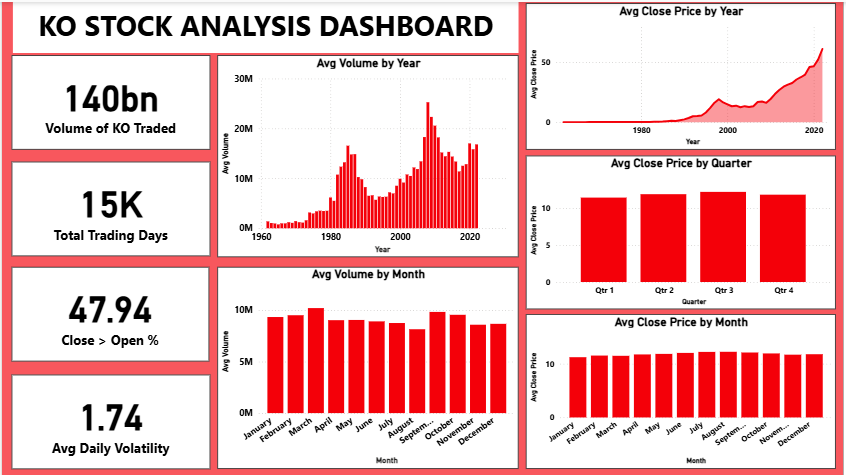

Layout of this report page (visuals, bound fields, positions):
{"tool":"powerbi","page":{"name":"Page 1","canvas":[1280,720],"ordinal":0},"visuals":[{"type":"card","fields":{"Values":["Coca-Cola_stock_history.Close > Open %"]},"box":[14.7,403.7,300.4,143.8],"z":0},{"type":"card","fields":{"Values":["Sum(Coca-Cola_stock_history.Volume)"]},"box":[14.7,81.1,302.3,143.8],"z":2000},{"type":"card","fields":{"Values":["Coca-Cola_stock_history.Total Trading Days"]},"box":[14.7,243.3,302.3,143.8],"z":3000},{"type":"clusteredColumnChart","fields":{"Category":["Coca-Cola_stock_history.Date.Variation.Date Hierarchy.Year"],"Y":["Coca-Cola_stock_history.Avg Trading Days"]},"box":[328.1,81.1,458.9,307.8],"z":4000},{"type":"areaChart","fields":{"Category":["Coca-Cola_stock_history.Date.Variation.Date Hierarchy.Year"],"Y":["Coca-Cola_stock_history.Avg Close Price"]},"box":[798.1,1.8,471.8,223],"z":5000},{"type":"clusteredColumnChart","fields":{"Category":["Coca-Cola_stock_history.Date.Variation.Date Hierarchy.Month"],"Y":["Coca-Cola_stock_history.Avg Vol Traded"]},"box":[328.1,403.7,459,307.8],"z":6000},{"type":"clusteredColumnChart","fields":{"Category":["Coca-Cola_stock_history.Date.Variation.Date Hierarchy.Quarter"],"Y":["Coca-Cola_stock_history.Avg Close Price"]},"box":[798.1,234.1,471.8,234.1],"z":7000},{"type":"clusteredColumnChart","fields":{"Category":["Coca-Cola_stock_history.Date.Variation.Date Hierarchy.Month"],"Y":["Coca-Cola_stock_history.Avg Close Price"]},"box":[798.1,475.5,471.9,235.9],"z":8000},{"type":"textbox","box":[16.6,0,770.4,77.4],"z":9000},{"type":"card","fields":{"Values":["Coca-Cola_stock_history.Avg Daily Volatility"]},"box":[15,567.8,301.4,143.2],"z":10000}]}

Visuals, with their boxes in screenshot pixels (x1, y1, x2, y2), scaled from the page's 1280x720 canvas onto the 846x475 screenshot:
card - Coca-Cola_stock_history.Close > Open %: [10,266,208,361]
card - Sum(Coca-Cola_stock_history.Volume): [10,54,210,148]
card - Coca-Cola_stock_history.Total Trading Days: [10,161,210,255]
clusteredColumnChart - Coca-Cola_stock_history.Date.Variation.Date Hierarchy.Year x Coca-Cola_stock_history.Avg Trading Days: [217,54,520,257]
areaChart - Coca-Cola_stock_history.Date.Variation.Date Hierarchy.Year x Coca-Cola_stock_history.Avg Close Price: [527,1,839,148]
clusteredColumnChart - Coca-Cola_stock_history.Date.Variation.Date Hierarchy.Month x Coca-Cola_stock_history.Avg Vol Traded: [217,266,520,469]
clusteredColumnChart - Coca-Cola_stock_history.Date.Variation.Date Hierarchy.Quarter x Coca-Cola_stock_history.Avg Close Price: [527,154,839,309]
clusteredColumnChart - Coca-Cola_stock_history.Date.Variation.Date Hierarchy.Month x Coca-Cola_stock_history.Avg Close Price: [527,314,839,469]
textbox: [11,0,520,51]
card - Coca-Cola_stock_history.Avg Daily Volatility: [10,375,209,469]
